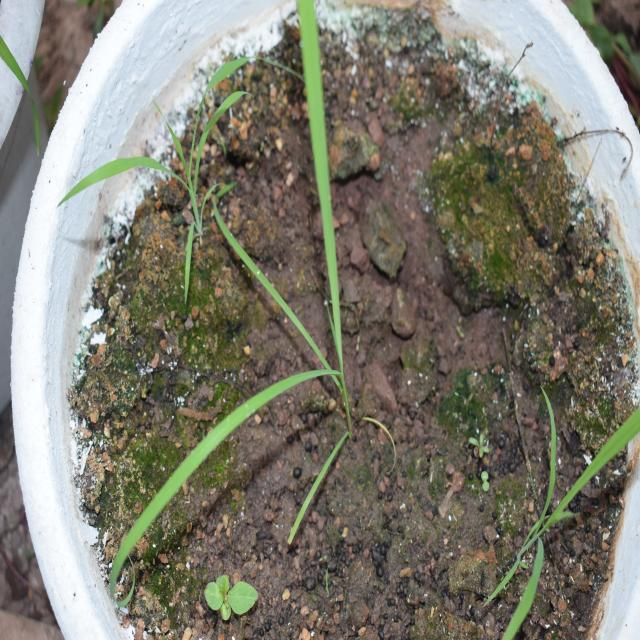barnyard_grass: (84, 12, 388, 586)
